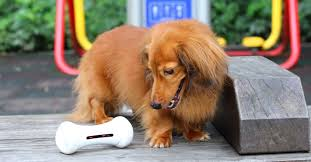dog: (146, 51, 190, 111)
